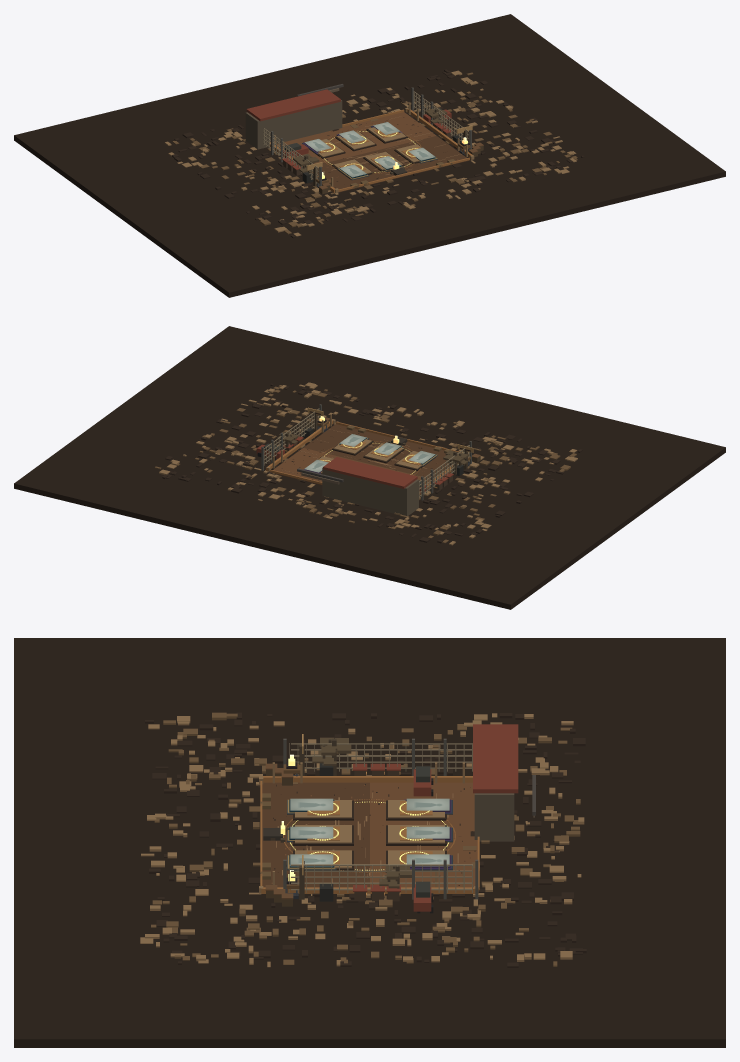
Rendered from wasteland.glb.
3 renders of one model, top to bottom at view 1: azimuth 30°, elevation 25°; view 2: azimuth 150°, elevation 25°; view 3: azimuth 270°, elevation 25°, orthographic. The views are drawn at different scales.
Parts seen in each view (by area): view 1: Bedrock, Outer_Rubble, Ruined_Station, Friendly_Floor, Enemy_Floor, Six_Grounded_Foundations, Chain_Fence, Arena_Curb, Dead_Trees; view 2: Bedrock, Outer_Rubble, Ruined_Station, Friendly_Floor, Chain_Fence, Six_Grounded_Foundations, Enemy_Floor, Arena_Curb, Dead_Trees; view 3: Bedrock, Outer_Rubble, Friendly_Floor, Enemy_Floor, Ruined_Station, Chain_Fence, Six_Grounded_Foundations, Arena_Curb, Dead_Trees, Rust_Cars, Oil_Drums, Props.
Part boxes in pixels (box(x1,y1,x2,y2)): Bedrock: box(14, 14, 725, 297); Outer_Rubble: box(164, 69, 584, 238); Ruined_Station: box(245, 89, 342, 149); Friendly_Floor: box(317, 136, 468, 192); Enemy_Floor: box(277, 112, 436, 163); Six_Grounded_Foundations: box(309, 127, 422, 179); Chain_Fence: box(263, 87, 471, 186); Arena_Curb: box(269, 109, 472, 192); Dead_Trees: box(293, 107, 447, 172); Bedrock: box(14, 326, 725, 609); Outer_Rubble: box(154, 382, 582, 545); Ruined_Station: box(322, 457, 418, 515); Friendly_Floor: box(303, 424, 452, 478); Chain_Fence: box(261, 404, 471, 500); Six_Grounded_Foundations: box(317, 439, 435, 473); Enemy_Floor: box(273, 448, 430, 484); Arena_Curb: box(266, 420, 462, 494); Dead_Trees: box(277, 432, 468, 474); Bedrock: box(14, 638, 725, 1047); Outer_Rubble: box(140, 712, 586, 967); Friendly_Floor: box(262, 782, 369, 887); Enemy_Floor: box(370, 782, 477, 887); Ruined_Station: box(473, 724, 518, 841); Chain_Fence: box(283, 738, 478, 899); Six_Grounded_Foundations: box(293, 800, 446, 870); Arena_Curb: box(260, 776, 479, 893); Dead_Trees: box(312, 737, 411, 888); Rust_Cars: box(413, 766, 433, 913); Oil_Drums: box(353, 763, 400, 901); Props: box(265, 763, 293, 906).
Size of the model in its own units: 48 by 3.32 by 36.
34 materials, 1 textured.
